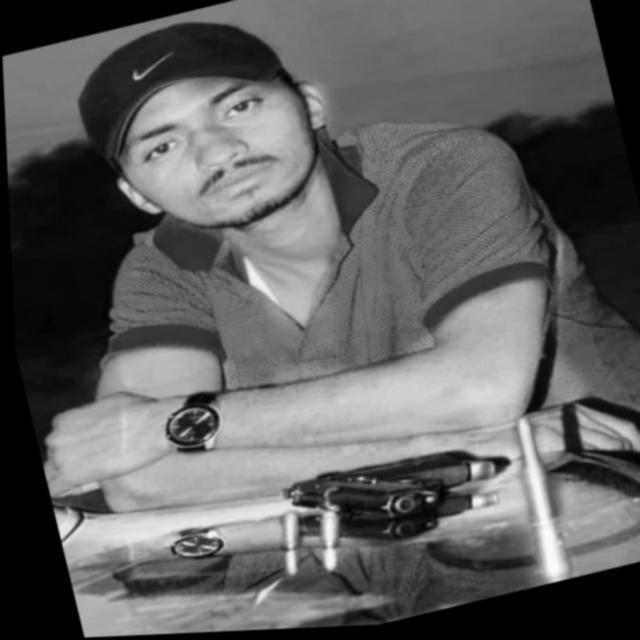weapon: (270, 433, 505, 552)
